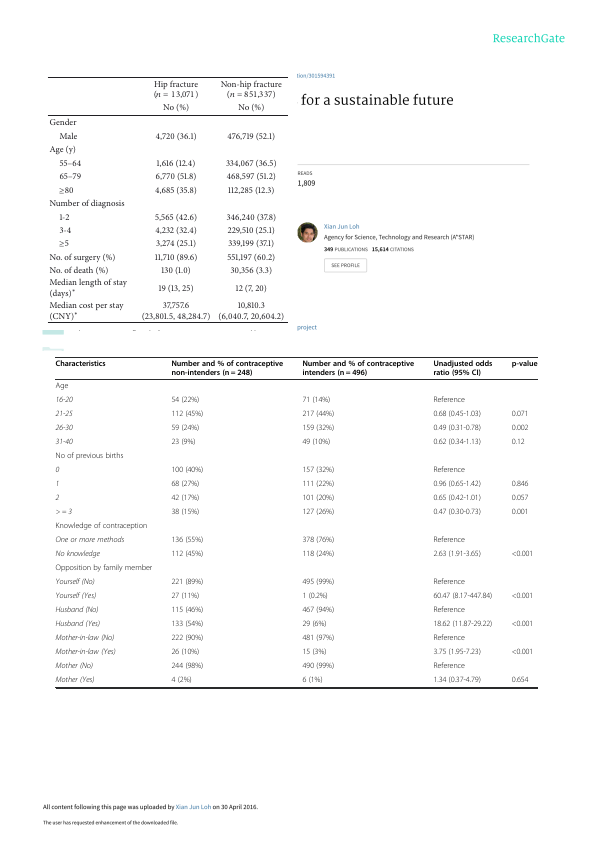borderless: (54, 356, 537, 687), (46, 75, 288, 322)
cell: (170, 360, 284, 378), (301, 360, 415, 378), (48, 277, 128, 299), (48, 300, 124, 322), (141, 300, 211, 322), (217, 300, 285, 322), (220, 79, 283, 102), (432, 360, 493, 378), (153, 79, 199, 102), (55, 564, 153, 574), (55, 522, 148, 532), (48, 198, 126, 209), (55, 452, 124, 462), (48, 252, 116, 262), (48, 265, 109, 276), (55, 536, 125, 545), (432, 592, 493, 602), (432, 620, 493, 630), (225, 158, 278, 169), (225, 212, 277, 223), (55, 648, 117, 657), (226, 131, 276, 142), (55, 634, 115, 643), (227, 225, 276, 236), (226, 172, 277, 182), (226, 252, 276, 262), (432, 410, 482, 420), (432, 424, 482, 434), (432, 438, 482, 448), (432, 480, 482, 490), (432, 494, 482, 504), (432, 508, 482, 518), (432, 550, 482, 560), (432, 648, 482, 658), (432, 676, 482, 686), (154, 131, 198, 142), (154, 212, 198, 223), (154, 225, 198, 236), (229, 265, 273, 276), (227, 185, 275, 195), (227, 239, 275, 249), (55, 360, 107, 369), (55, 550, 101, 560), (156, 158, 196, 169), (154, 185, 198, 195), (154, 252, 198, 262), (155, 172, 197, 182), (155, 239, 197, 249), (55, 620, 101, 629), (55, 606, 99, 615), (157, 283, 195, 293), (55, 592, 97, 601), (55, 578, 96, 587), (55, 676, 95, 685), (160, 265, 192, 276), (55, 662, 94, 671), (432, 396, 466, 406), (170, 410, 204, 420), (301, 410, 335, 420), (301, 424, 335, 434), (170, 466, 204, 476), (301, 466, 335, 476), (432, 466, 466, 476), (301, 480, 335, 490), (301, 494, 335, 504), (301, 508, 335, 518), (170, 536, 204, 546), (301, 536, 335, 546), (432, 536, 466, 546), (170, 550, 204, 560), (301, 550, 335, 560), (170, 578, 204, 588), (301, 578, 335, 588), (432, 578, 466, 588), (170, 606, 204, 616), (301, 606, 335, 616), (432, 606, 466, 616), (170, 620, 204, 630), (170, 634, 204, 644), (301, 634, 335, 644), (432, 634, 466, 644), (170, 662, 204, 672), (301, 662, 335, 672), (432, 662, 466, 672), (48, 117, 78, 128), (235, 283, 268, 293), (48, 144, 77, 155), (170, 396, 200, 406), (301, 396, 331, 406), (170, 424, 200, 434), (301, 438, 331, 448), (170, 480, 200, 490), (170, 494, 200, 504), (170, 508, 200, 518), (170, 592, 200, 602), (170, 648, 200, 658), (162, 103, 190, 113), (237, 103, 265, 113), (301, 592, 329, 602), (58, 158, 82, 169), (170, 438, 196, 448), (301, 620, 327, 630), (301, 648, 327, 658), (511, 360, 538, 369), (58, 172, 82, 182), (58, 182, 74, 197), (511, 550, 534, 560), (511, 592, 534, 602), (511, 620, 534, 630), (511, 648, 534, 658), (58, 131, 78, 142), (170, 676, 192, 686), (301, 676, 323, 686), (58, 235, 70, 251), (511, 410, 529, 420), (511, 424, 529, 434), (511, 480, 529, 490), (511, 494, 529, 504), (511, 508, 529, 518), (511, 676, 529, 686), (55, 396, 73, 405), (55, 410, 73, 419), (55, 424, 73, 433), (55, 438, 73, 447), (55, 508, 73, 517), (58, 225, 72, 236), (511, 438, 526, 448), (55, 382, 69, 392), (58, 212, 70, 223), (55, 466, 60, 475), (55, 480, 60, 489), (55, 494, 60, 503)
